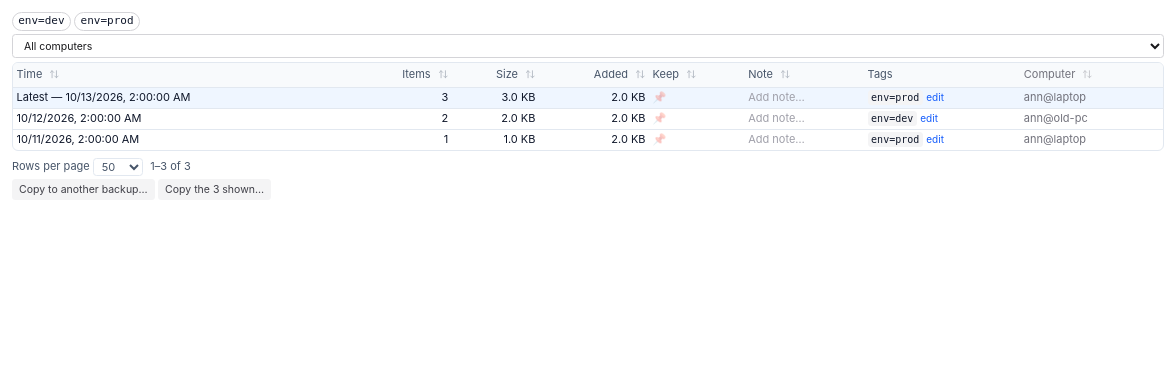
it: BackupVersionTable › filters by tag chips and copies versions to another job (Advanced)
Expected: the row with test id "version-row-1" shows "ann@old-pc", [1024,111,1088,125]
Click the button "env=prod" at [107, 21], box [74,12,140,30]
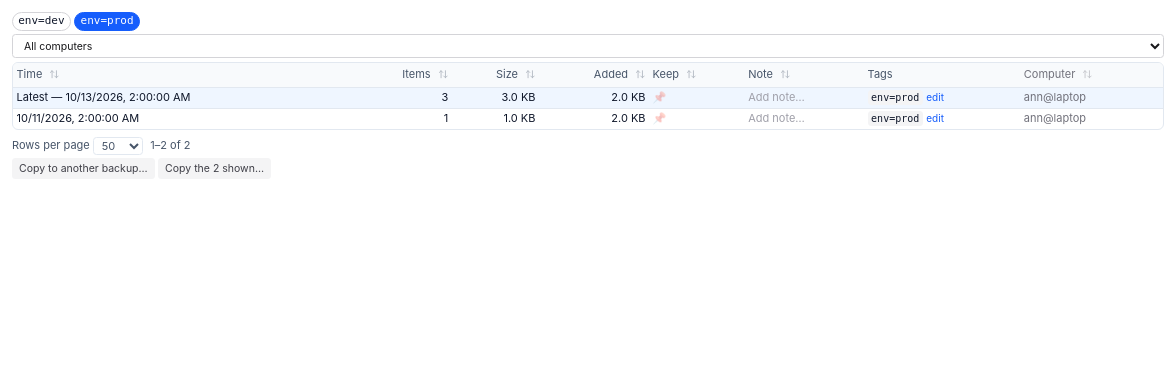
Expected: the row with test id "version-row-2" is shown, [13,108,1163,128]
Now the row with test id "version-row-1" is gone
Click the button "Copy the 2 shown…" at [215, 168], box [158,158,271,179]
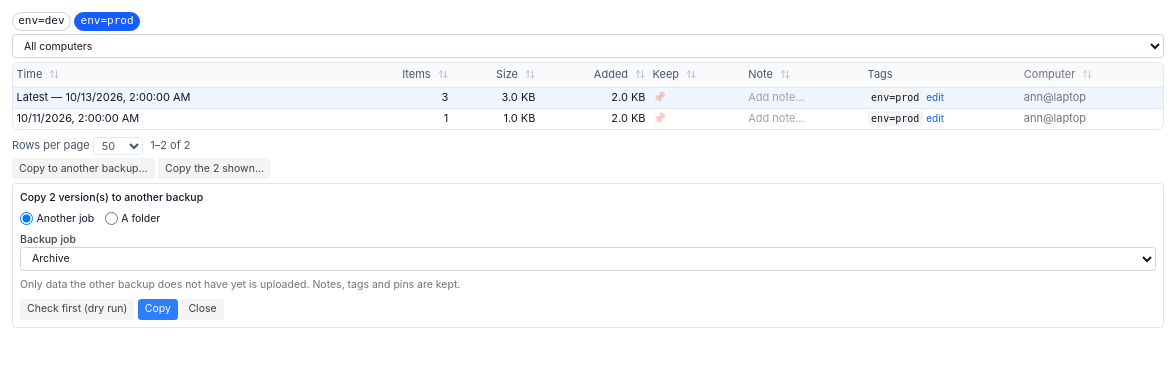
Now the dropdown with test id "copy-target-job" shows "Archive", box [20,246,1156,270]
Click the button with test id "copy-versions-run" at [158, 309], box [138,298,178,320]
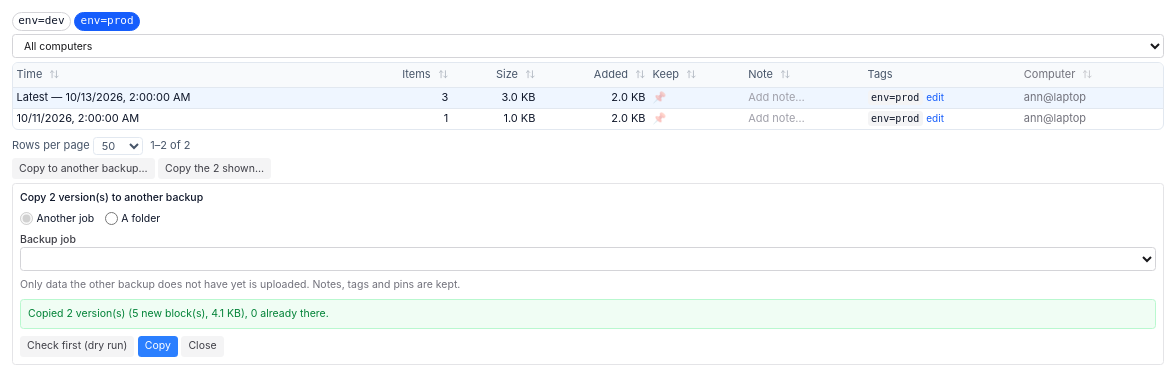
Now the text "Copied 2 version(s)" is shown, box [28,306,329,320]
